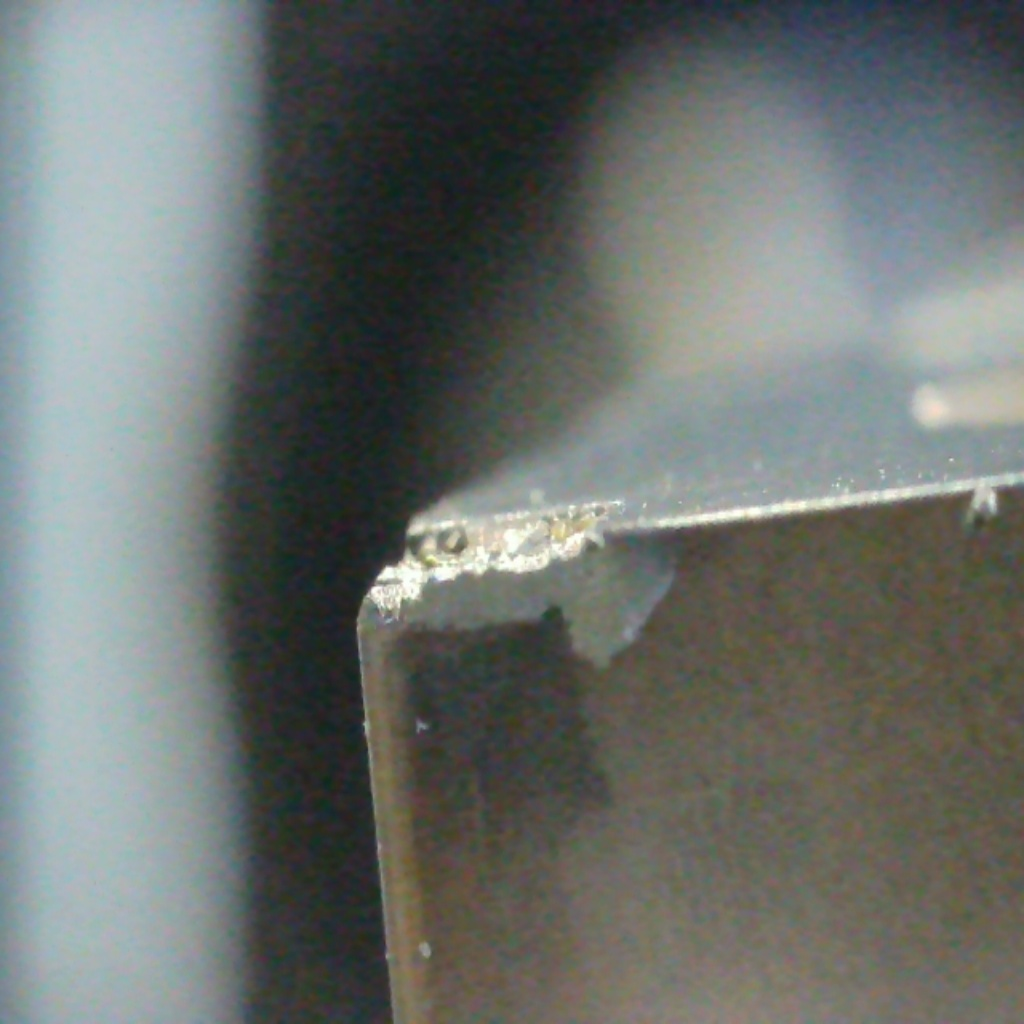flank_wear: (364, 590, 627, 681)
